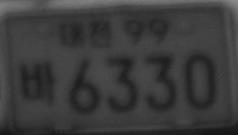0: (183, 52, 216, 111)
3: (105, 56, 139, 113), (144, 54, 178, 110)
6: (68, 58, 101, 115)
9: (123, 17, 145, 45), (147, 16, 169, 44)
대전_H: (58, 18, 113, 48)
바: (18, 61, 57, 105)
